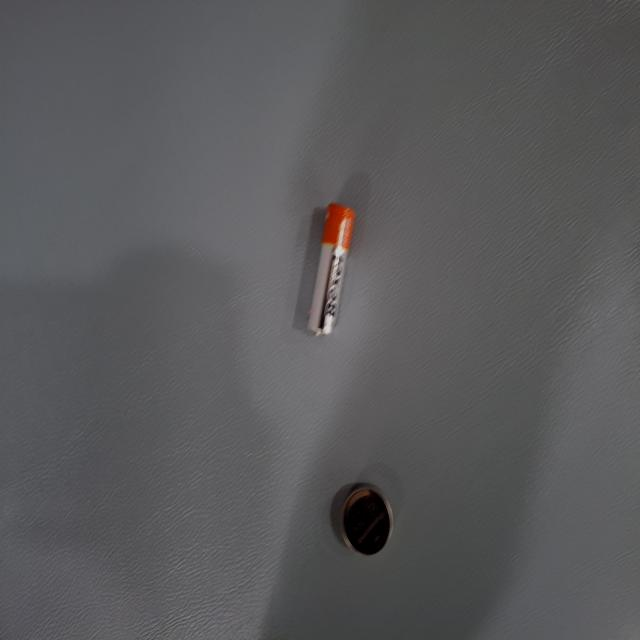AA: (226, 406, 330, 474)
COIN: (61, 451, 118, 524)
